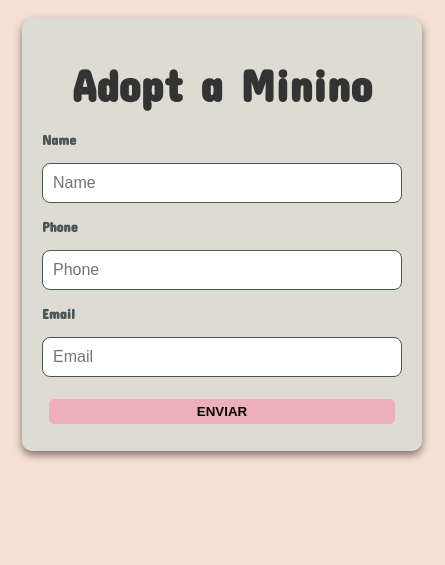
Form component › muestra errores si se envía vacío
The image size is (445, 565).
Click the button "ENVIAR" at (222,412), box [49,399,395,424]
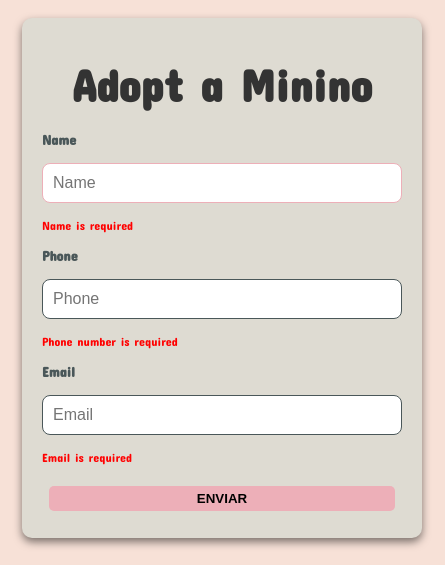
Check: the text "Name is required" is shown, box [42,218,133,232]
Check: the text "Phone number is required" is shown, box [42,334,178,348]
Check: the text "Email is required" is shown, box [42,450,132,464]
